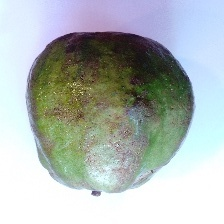guava: (41, 33, 200, 215)
